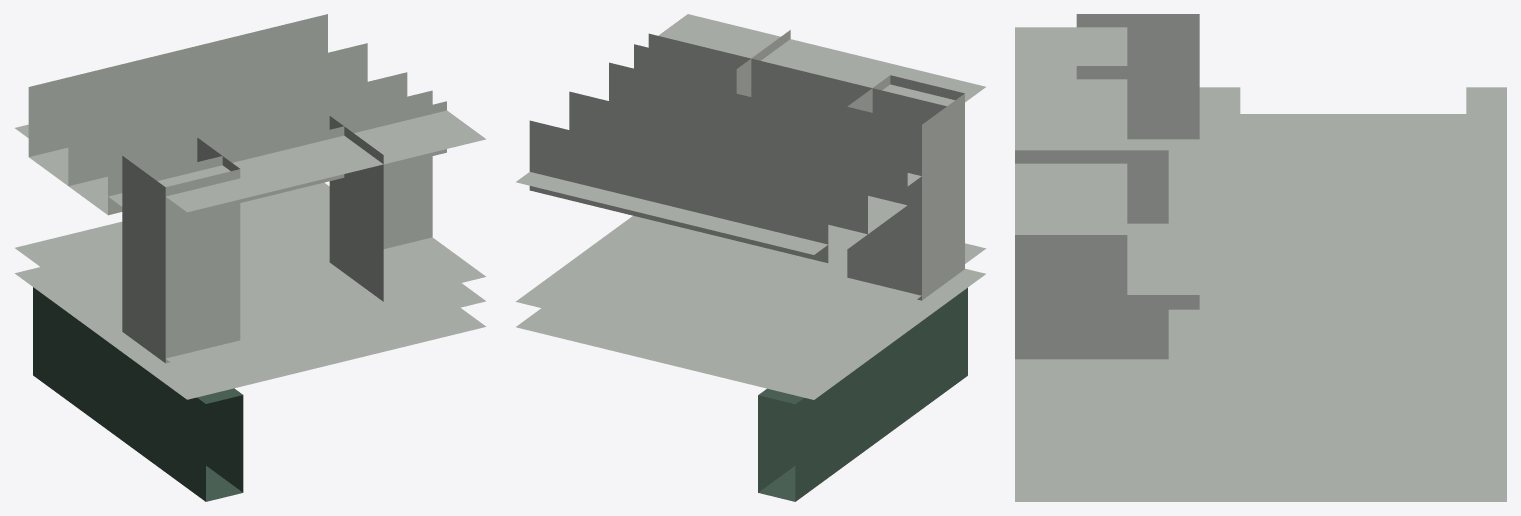
Rendered from cell_5.obj.
3 views of the same model, side by side, from view 1: azimuth 30°, elevation 25°; view 2: azimuth 150°, elevation 25°; view 3: azimuth 270°, elevation 25° (orthographic). The views are drawn at different scales.
Bounding box in the file's own units: 1 × 0.9688 × 1.
